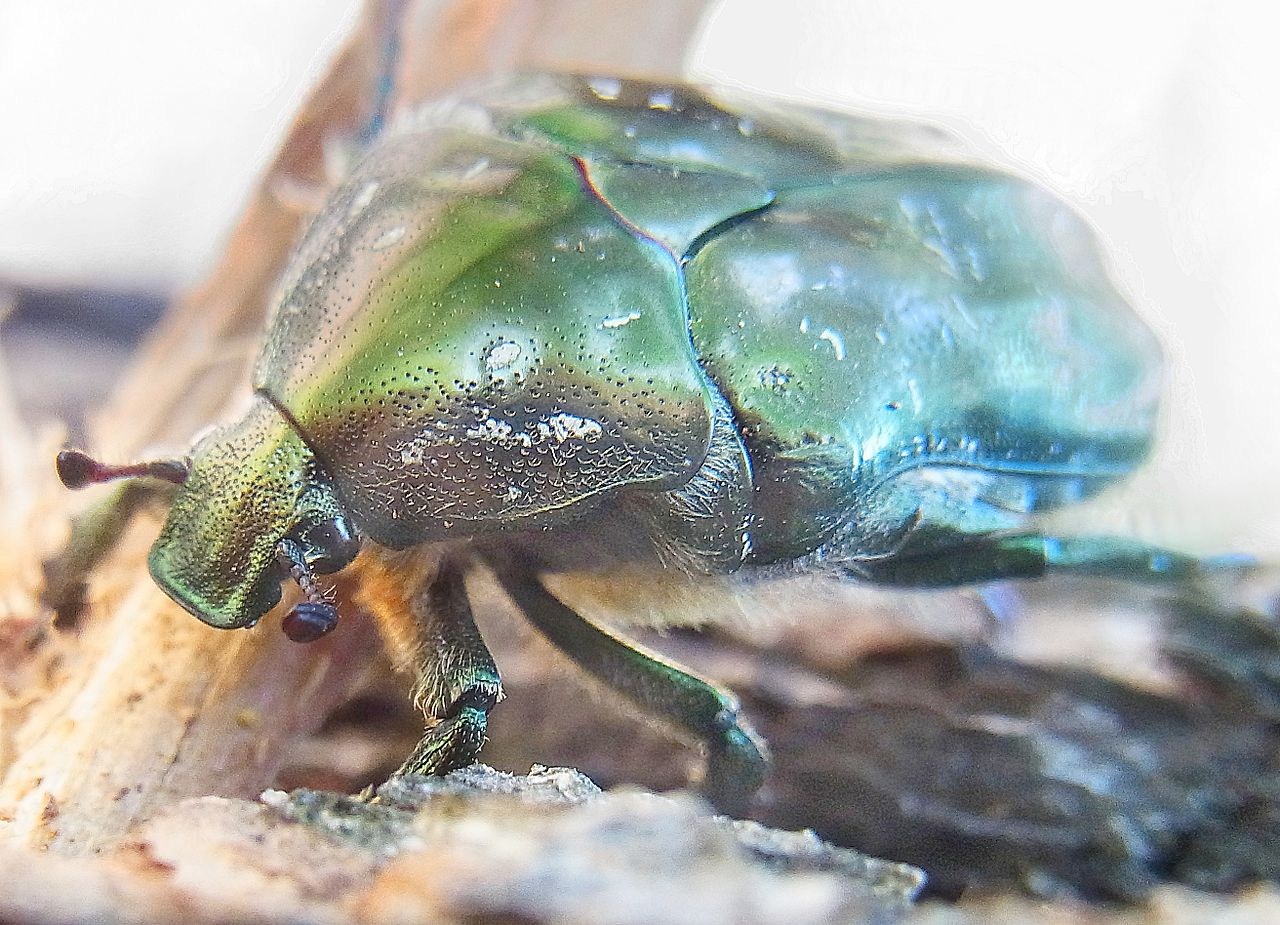Protaetia_lugubris: (45, 48, 1172, 818)
